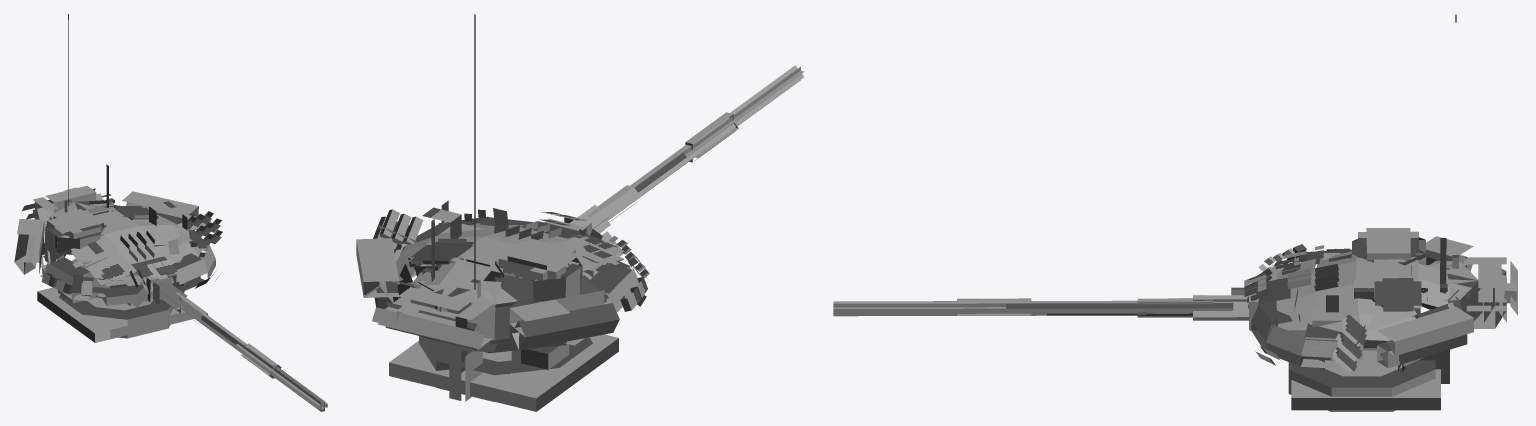
The model's file is ver_b_turret72.obj.
The picture shows the model from 3 angles, left to right: view 1: azimuth 30°, elevation 25°; view 2: azimuth 150°, elevation 25°; view 3: azimuth 270°, elevation 25°; orthographic projection. The views are drawn at different scales.
Parts seen in each view (by area): view 1: turret, gun; view 2: turret, gun; view 3: turret, gun.
Boxes of the visible parts, x1=… form: turret: x1=14, y1=14, x2=222, y2=342; gun: x1=129, y1=256, x2=327, y2=411; turret: x1=356, y1=14, x2=649, y2=411; gun: x1=521, y1=65, x2=804, y2=238; turret: x1=1231, y1=14, x2=1517, y2=411; gun: x1=833, y1=272, x2=1290, y2=330.
Size of the model in its own units: 3.6 by 4.98 by 8.7.
